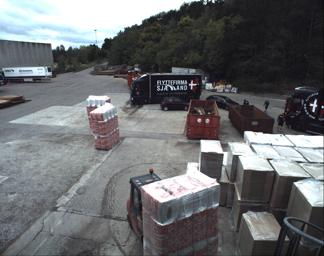rockwool_batts: (143, 171, 220, 255), (89, 103, 120, 148), (86, 93, 109, 116)
